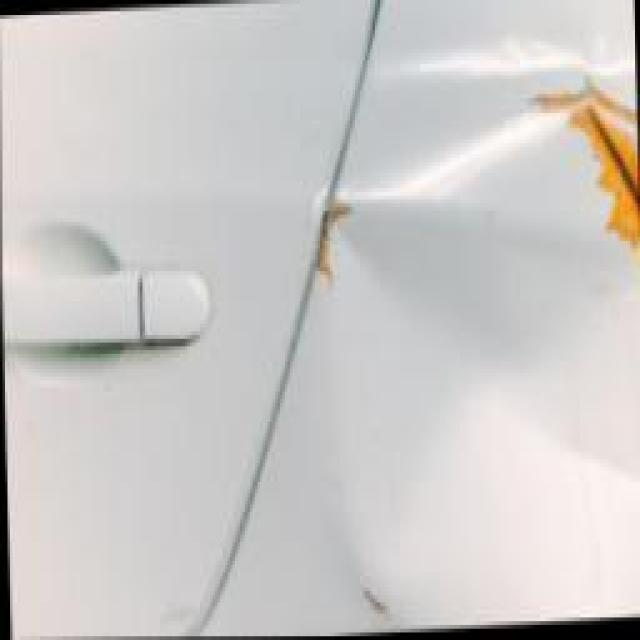Fender: (298, 0, 640, 637)
